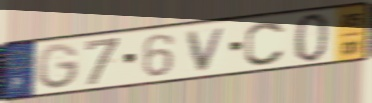0: (292, 11, 331, 64)
6: (141, 31, 176, 78)
7: (84, 36, 122, 87)
C: (242, 19, 287, 68)
G: (36, 42, 81, 92)
V: (185, 24, 230, 74)
